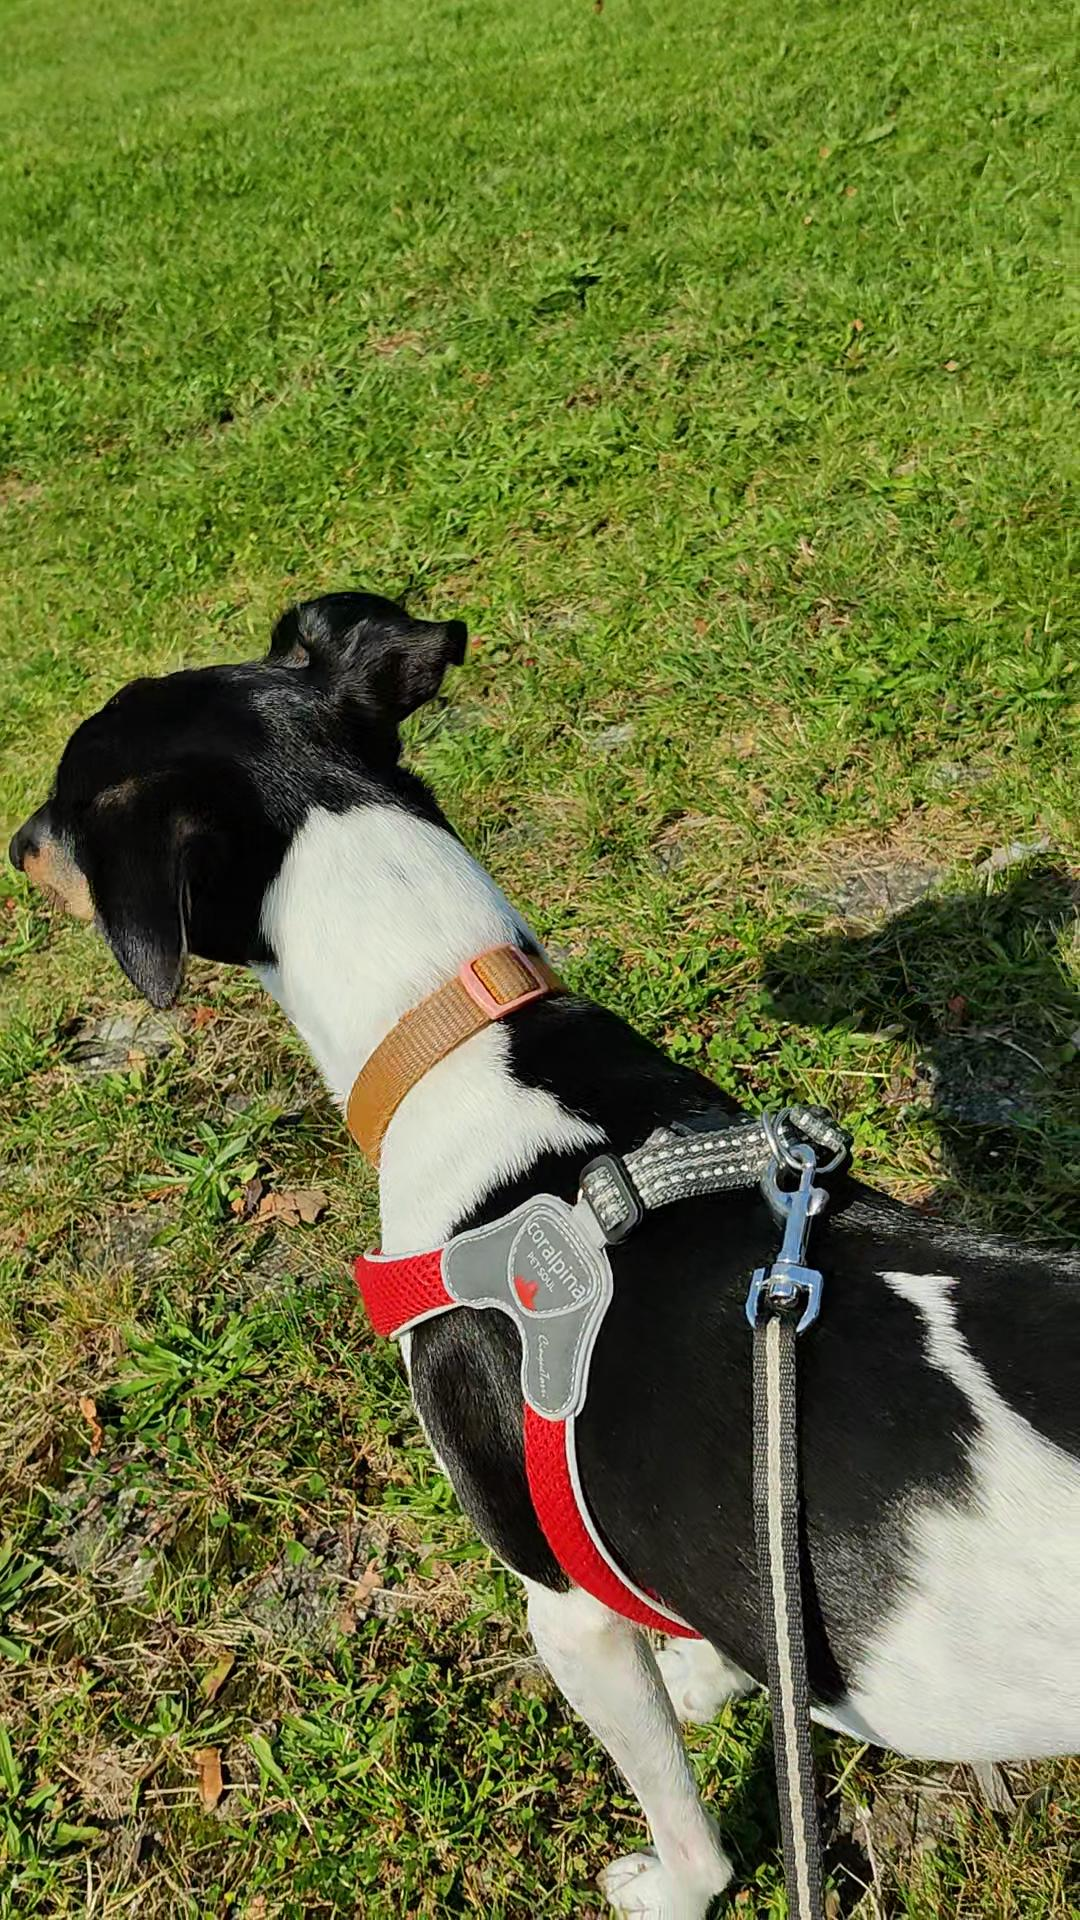Dog: (0, 554, 1079, 1919)
